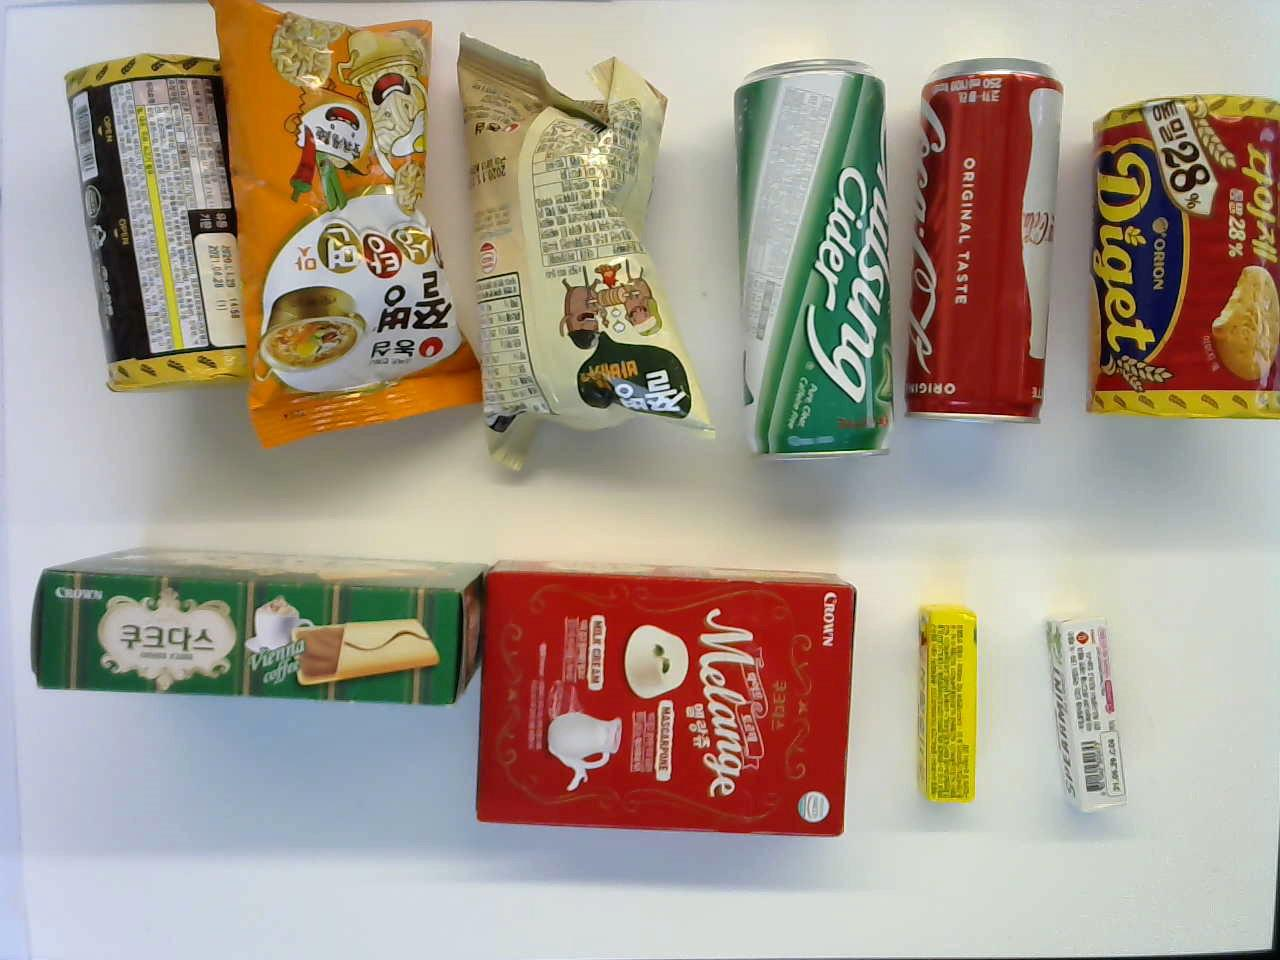cidar: (734, 57, 893, 463)
coke: (899, 56, 1071, 419)
couque_coffee: (21, 542, 490, 720)
couque_white: (463, 556, 862, 838)
diget_choco: (58, 51, 264, 395)
diget_ori: (1085, 88, 1279, 424)
jjolbyung_noodle: (204, 0, 483, 449)
jjolbyung_ori: (450, 34, 721, 470)
juicyfresh: (910, 601, 980, 809)
spearmint: (1036, 615, 1130, 829)
